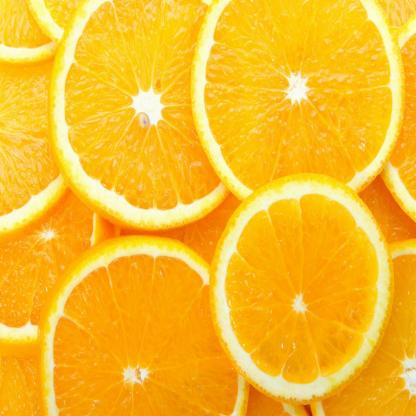---: (40, 0, 250, 230), (191, 0, 409, 207), (203, 174, 396, 403), (28, 236, 242, 416)
